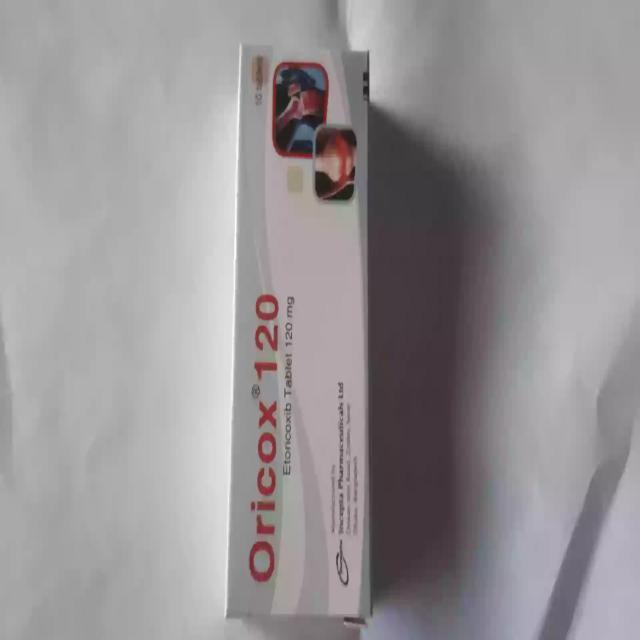drug-name: (250, 287, 280, 588)
